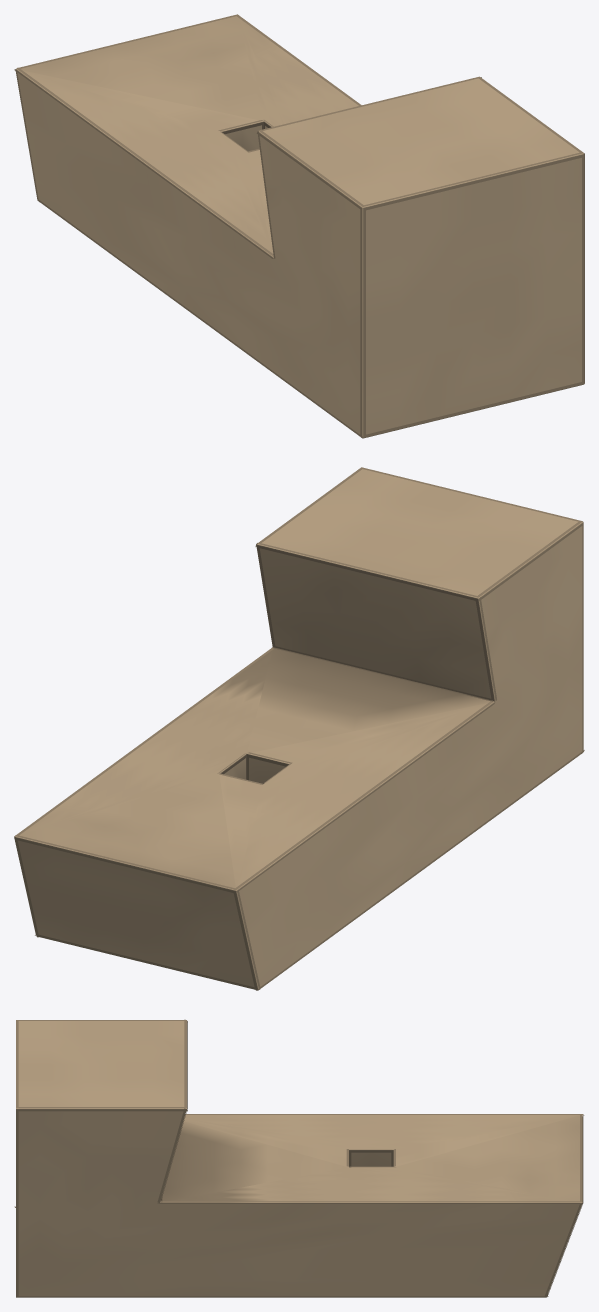
The picture shows the model from 3 angles, top to bottom: view 1: azimuth 30°, elevation 25°; view 2: azimuth 150°, elevation 25°; view 3: azimuth 270°, elevation 25°; orthographic projection. The views are drawn at different scales.
Parts seen in each view (by area): view 1: part-a; view 2: part-a; view 3: part-a.
Part boxes in pixels (x1,y1,x2,y2): part-a: (14, 14, 584, 438); part-a: (14, 467, 584, 990); part-a: (14, 1019, 584, 1297).
Size of the model in its own units: 0.1208 by 0.1199 by 0.3277.
